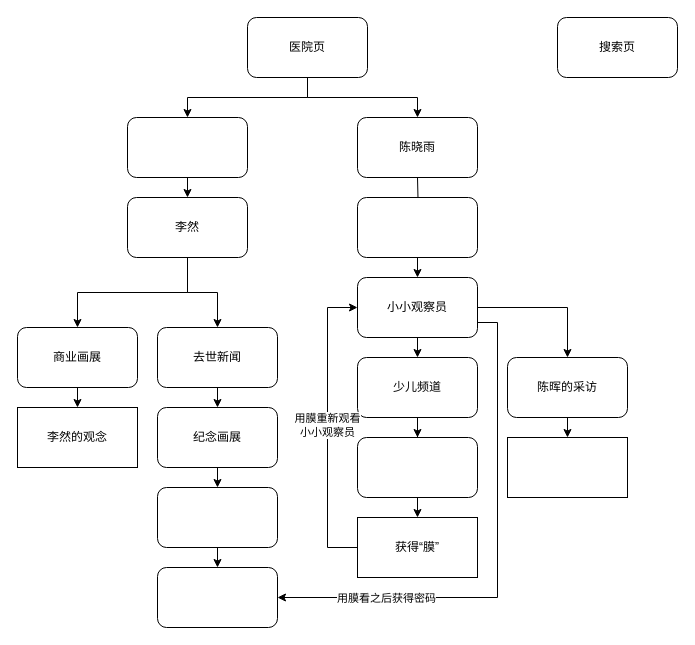
This 695x645 diagram has some shape labels left out. The centre of each missing label's shape, as x and y in pixels:
周子昂: (x=187, y=147)
澄江市实验小学: (x=417, y=227)
陈晖: (x=217, y=517)
陈晖做的小游戏: (x=417, y=467)
陈晖的博客 有密码: (x=217, y=597)
陈晖的观念: (x=567, y=467)
